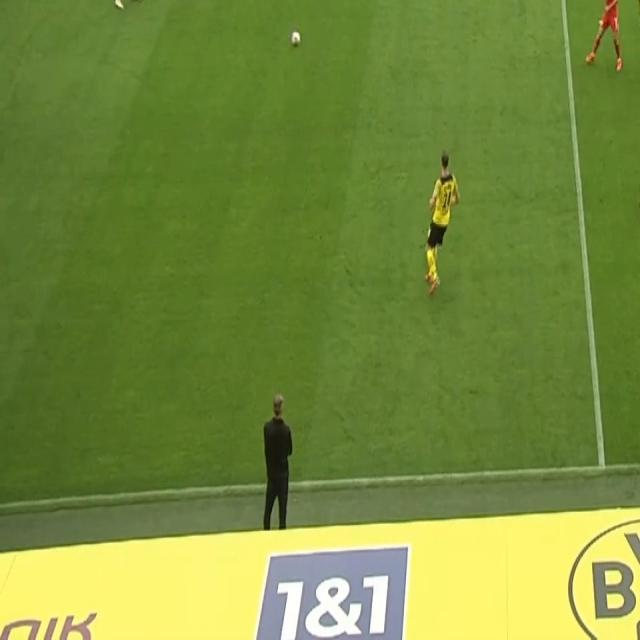ball: (289, 28, 302, 50)
